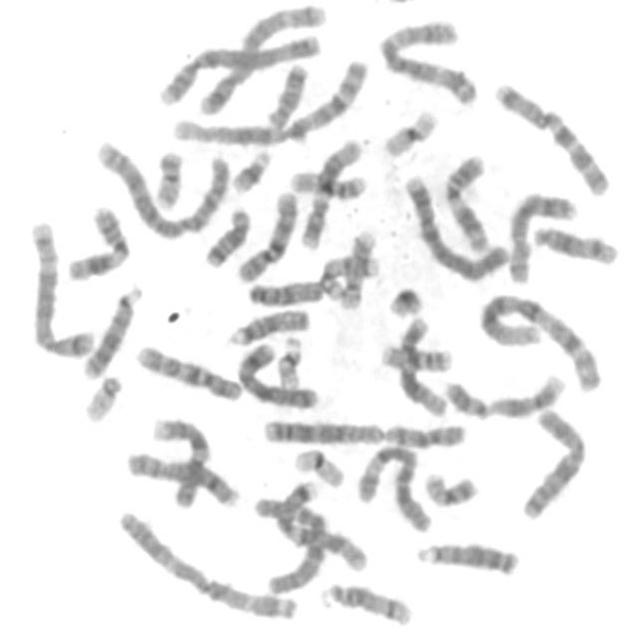A1: (169, 50, 375, 147), (472, 283, 605, 394)
A2: (88, 130, 234, 240), (256, 409, 468, 450)
A3: (111, 502, 300, 622), (372, 13, 482, 107)
B4: (156, 35, 345, 111), (398, 165, 512, 284)
B5: (192, 0, 328, 117), (23, 213, 97, 360)
C10: (130, 336, 246, 404), (230, 182, 302, 284)
C11: (59, 198, 133, 284), (438, 145, 494, 255)
C12: (294, 130, 368, 250), (392, 309, 450, 419)
C6: (352, 437, 436, 534), (260, 483, 330, 596)
C7: (488, 74, 614, 198), (272, 473, 368, 578)
C8: (120, 444, 242, 509), (501, 186, 580, 286)
C9: (439, 365, 568, 421), (146, 410, 213, 510)
D13: (76, 277, 146, 381), (410, 533, 522, 578)
D14: (314, 576, 416, 628), (527, 218, 622, 268)
D15: (222, 301, 314, 347), (242, 272, 328, 308)
E16: (284, 161, 371, 201), (374, 336, 456, 374)
E17: (332, 221, 378, 312), (316, 243, 382, 303)
E18: (198, 200, 254, 268), (262, 55, 312, 128)
F19: (378, 102, 440, 158), (288, 440, 348, 490)
F20: (418, 464, 482, 508), (147, 142, 185, 211)
G21: (224, 141, 274, 195), (382, 277, 426, 319)
G22: (77, 367, 125, 425), (272, 328, 306, 389)
X: (515, 400, 590, 522), (230, 335, 322, 411)
